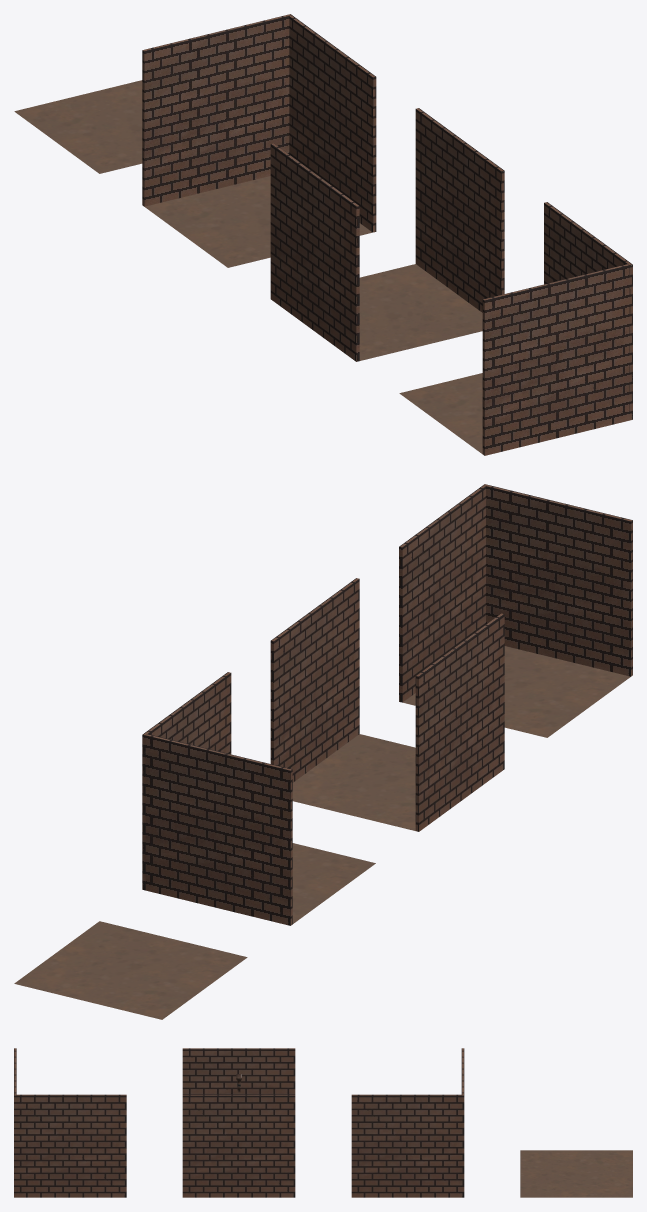
Rendered from static.glb.
The picture shows the model from 3 angles, top to bottom: view 1: azimuth 30°, elevation 25°; view 2: azimuth 150°, elevation 25°; view 3: azimuth 270°, elevation 25°; orthographic projection. The views are drawn at different scales.
Visible parts, largest first — view 1: cornerLeft-col, cornerRight-col, wallLeftTorchlight-col, wallRightTorchlight-col, floor-col; view 2: cornerRight-col, cornerLeft-col, wallLeftTorchlight-col, wallRightTorchlight-col, floor-col; view 3: cornerLeft-col, cornerRight-col, wallLeftTorchlight-col, floor-col, wallRightTorchlight-col.
Boxes of the visible parts, bbox=[...] form: cornerLeft-col: bbox=[142, 14, 376, 267]; cornerRight-col: bbox=[399, 202, 632, 455]; wallLeftTorchlight-col: bbox=[359, 108, 504, 360]; wallRightTorchlight-col: bbox=[270, 143, 482, 361]; floor-col: bbox=[14, 80, 142, 173]; cornerRight-col: bbox=[399, 484, 632, 737]; cornerLeft-col: bbox=[142, 672, 375, 925]; wallLeftTorchlight-col: bbox=[270, 578, 415, 830]; wallRightTorchlight-col: bbox=[300, 613, 504, 831]; floor-col: bbox=[14, 921, 247, 1019]; cornerLeft-col: bbox=[351, 1048, 464, 1197]; cornerRight-col: bbox=[14, 1048, 126, 1197]; wallLeftTorchlight-col: bbox=[182, 1094, 295, 1197]; floor-col: bbox=[520, 1150, 632, 1197]; wallRightTorchlight-col: bbox=[182, 1048, 295, 1094].
Bounding box in the file's own units: 4 × 4 × 22.
Materials: 2 (2 with a texture image).
